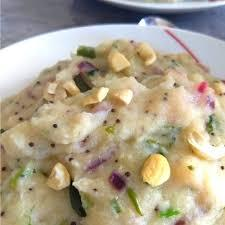upma: (0, 36, 225, 225)
